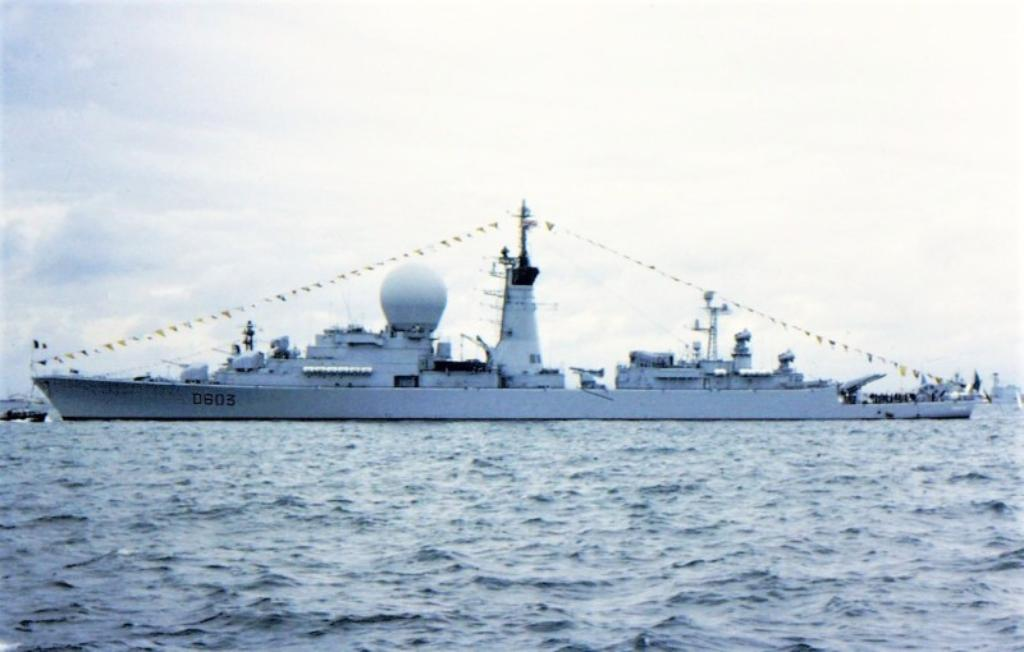Warship: (31, 200, 981, 428)
